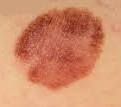Melanoma: (17, 10, 100, 86)
